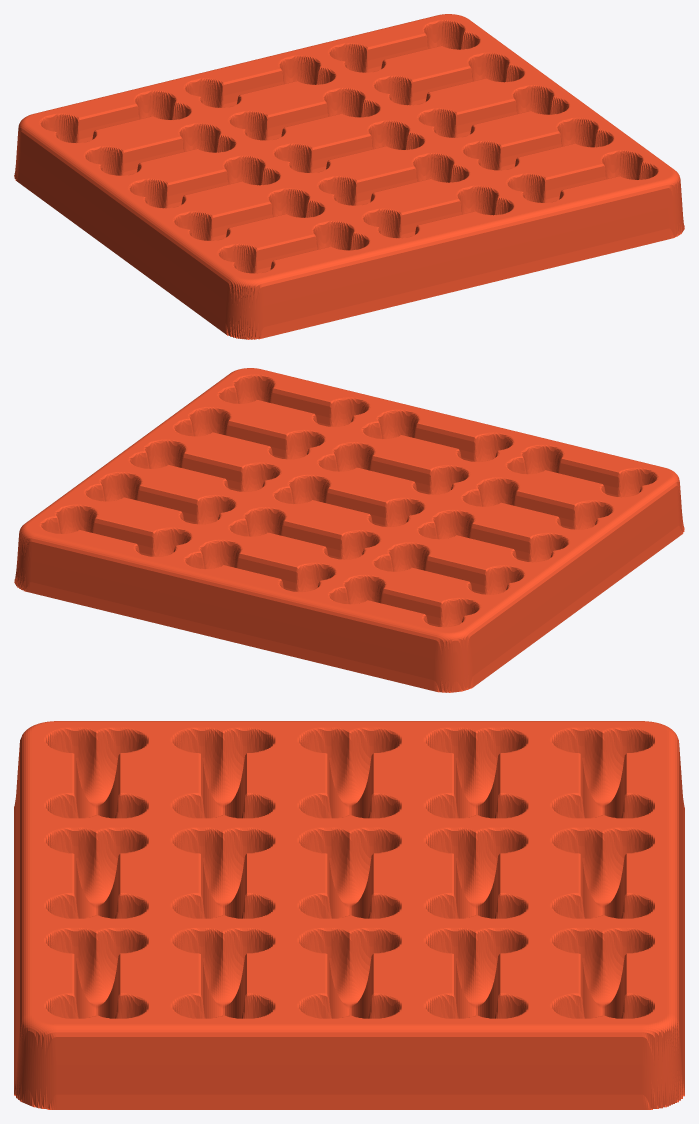
File: mold.glb
3 views of the same model, one above another, from view 1: azimuth 30°, elevation 25°; view 2: azimuth 150°, elevation 25°; view 3: azimuth 270°, elevation 25° (orthographic). The views are drawn at different scales.
Visible parts, largest first — view 1: geometry_0; view 2: geometry_0; view 3: geometry_0.
Boxes of the visible parts, box(x1,y1,x2,y2) form: geometry_0: box(14, 14, 684, 339); geometry_0: box(14, 368, 684, 692); geometry_0: box(14, 721, 684, 1109).
Size of the model in its own units: 0.1602 by 0.0185 by 0.1434.
